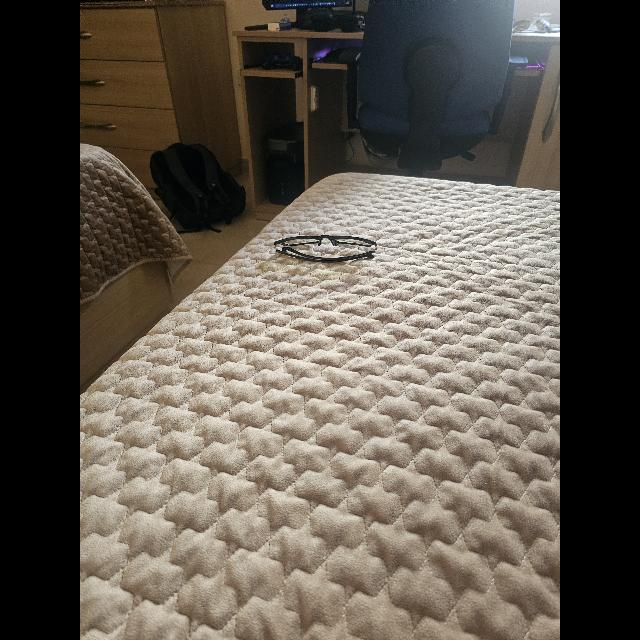glasses: (274, 235, 376, 263)
